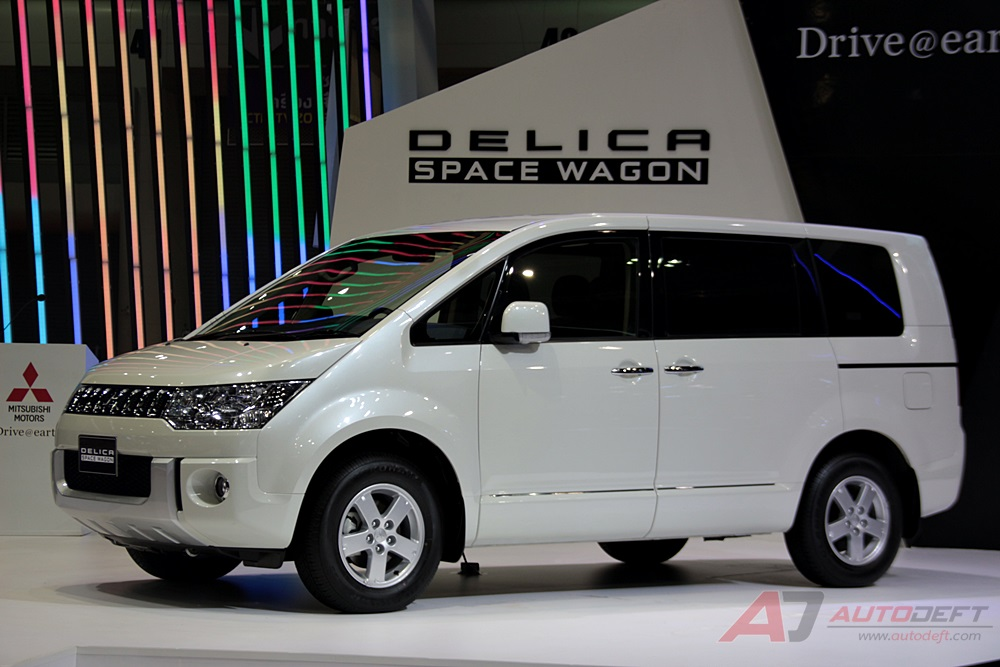van: (53, 209, 969, 619)
